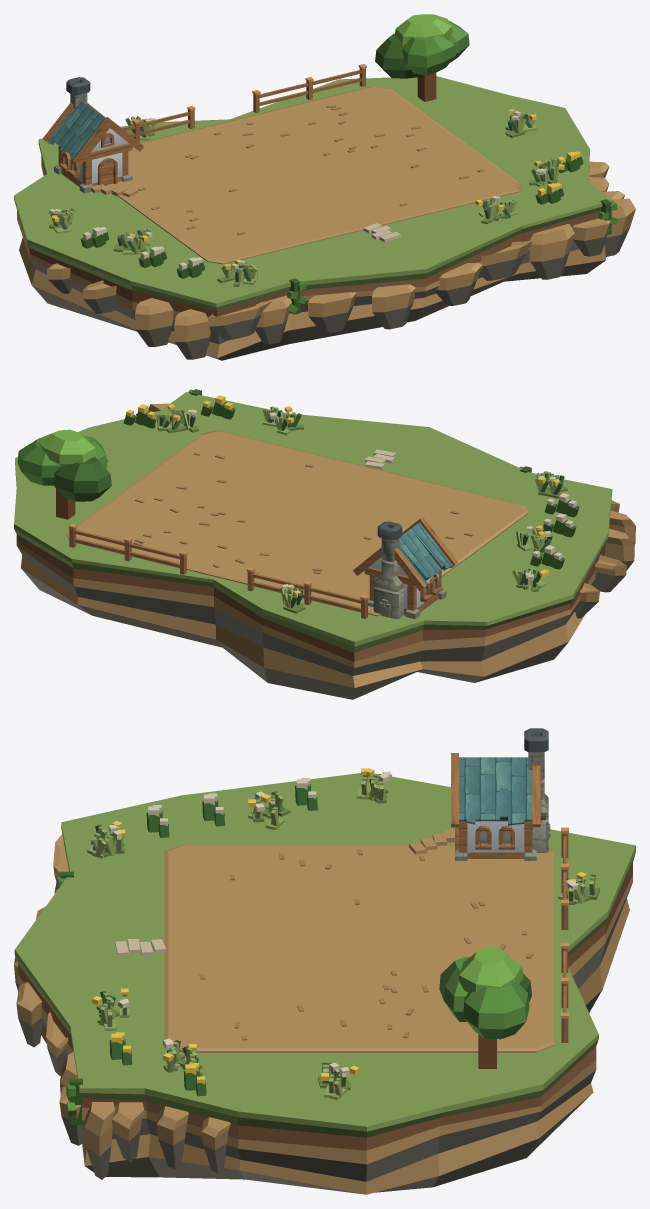
File: island-meadow.glb
The picture shows the model from 3 angles, top to bottom: view 1: azimuth 30°, elevation 25°; view 2: azimuth 150°, elevation 25°; view 3: azimuth 270°, elevation 25°; orthographic projection. The views are drawn at different scales.
Visible parts, largest first — view 1: Island, Yard, building_home_A_blue, Weathered outcrop.005, Crown.002, Weathered outcrop.008, Weathered outcrop.013, Weathered outcrop.009, Weathered outcrop.012, Weathered outcrop.007, Weathered outcrop.011, Weathered outcrop.006 (+8 smaller); view 2: Island, Yard, building_home_A_blue, Crown, Crown.003, Crown.001, Weathered outcrop.014, Weathered outcrop.013, Weathered outcrop.015, Weathered outcrop.012, FenceRail.001, FenceRail.003 (+1 smaller); view 3: Island, Yard, building_home_A_blue, Crown.001, Crown.003, Weathered outcrop.003, Weathered outcrop.001, Weathered outcrop.002, Weathered outcrop.007, Weathered outcrop, Crown.002, Weathered outcrop.006 (+1 smaller).
Boxes of the visible parts, x1,y1,x2,y2 form: Island: [14, 76, 613, 360]; Yard: [106, 86, 520, 264]; building_home_A_blue: [42, 77, 143, 193]; Weathered outcrop.005: [530, 224, 574, 279]; Crown.002: [402, 35, 455, 75]; Weathered outcrop.008: [372, 284, 415, 329]; Weathered outcrop.013: [135, 298, 173, 347]; Weathered outcrop.009: [307, 292, 356, 333]; Weathered outcrop.012: [174, 309, 210, 359]; Weathered outcrop.007: [436, 262, 482, 305]; Weathered outcrop.011: [208, 301, 271, 340]; Weathered outcrop.006: [481, 241, 532, 280]; Island: [14, 392, 612, 699]; Yard: [66, 430, 528, 616]; building_home_A_blue: [353, 517, 458, 619]; Crown: [52, 456, 111, 501]; Crown.003: [35, 429, 96, 467]; Crown.001: [17, 437, 60, 485]; Weathered outcrop.014: [592, 555, 626, 592]; Weathered outcrop.013: [606, 528, 634, 570]; Weathered outcrop.015: [575, 583, 599, 618]; Weathered outcrop.012: [609, 510, 635, 544]; FenceRail.001: [252, 573, 360, 603]; FenceRail.003: [74, 530, 179, 559]; Island: [14, 773, 635, 1194]; Yard: [164, 844, 553, 1052]; building_home_A_blue: [451, 728, 550, 860]; Crown.001: [463, 981, 529, 1039]; Crown.003: [458, 947, 523, 993]; Weathered outcrop.003: [84, 1102, 114, 1179]; Weathered outcrop.001: [156, 1106, 188, 1169]; Weathered outcrop.002: [111, 1102, 144, 1162]; Weathered outcrop.007: [16, 982, 42, 1047]; Weathered outcrop: [201, 1117, 230, 1173]; Crown.002: [439, 957, 469, 1021]; Weathered outcrop.006: [46, 1012, 68, 1075].
Size of the model in its own units: 9.99 by 3.15 by 7.36.
Materials: 54 (5 with a texture image).
